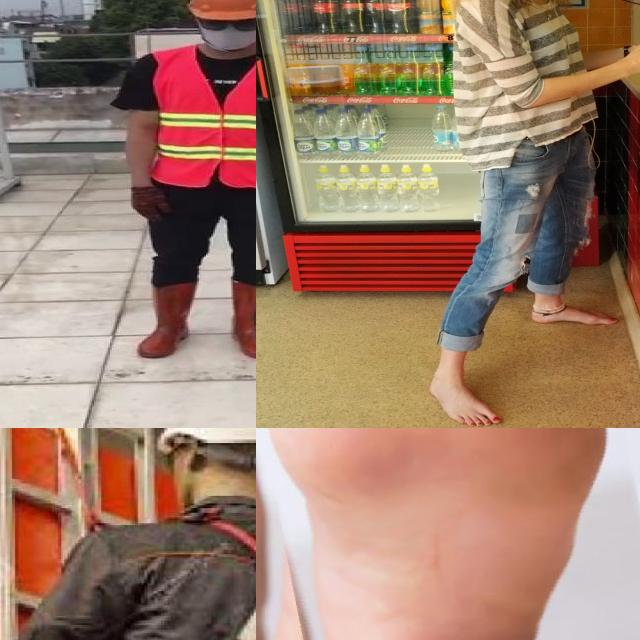Barefoots: (256, 428, 640, 640), (430, 376, 502, 426), (532, 305, 618, 325)
Harness: (78, 519, 256, 640)
boots: (137, 282, 200, 360), (231, 279, 256, 360)
head_helmet: (179, 0, 256, 22)
person: (108, 0, 256, 360)
vest: (152, 49, 256, 188)
